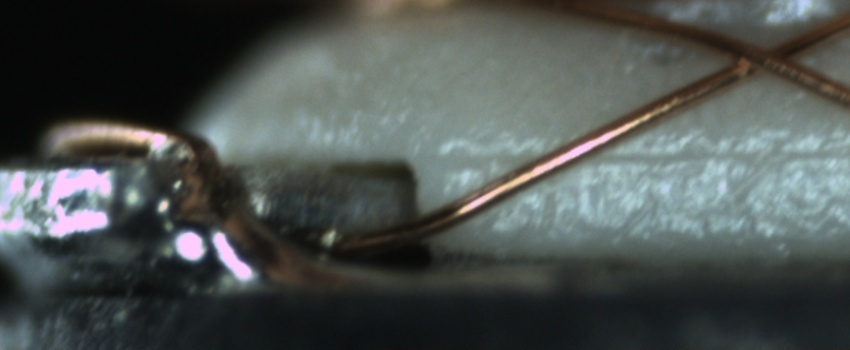CL: (714, 29, 816, 84)
DL: (441, 128, 849, 186)
TE: (31, 117, 228, 159)
